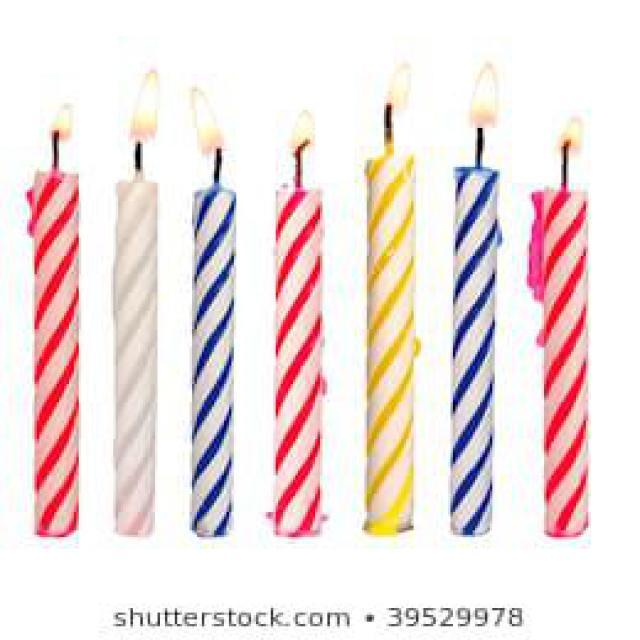Fire: (132, 70, 162, 143), (190, 86, 222, 154), (470, 62, 497, 128), (384, 61, 409, 108), (290, 109, 312, 154), (558, 116, 584, 151), (52, 103, 69, 142)
